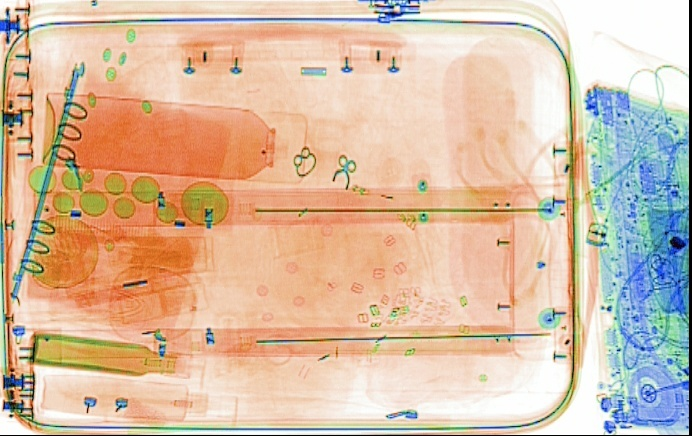pressure: (37, 87, 307, 185)
